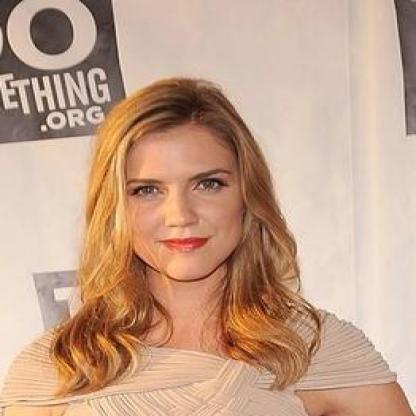long-hair: (68, 284, 319, 342)
